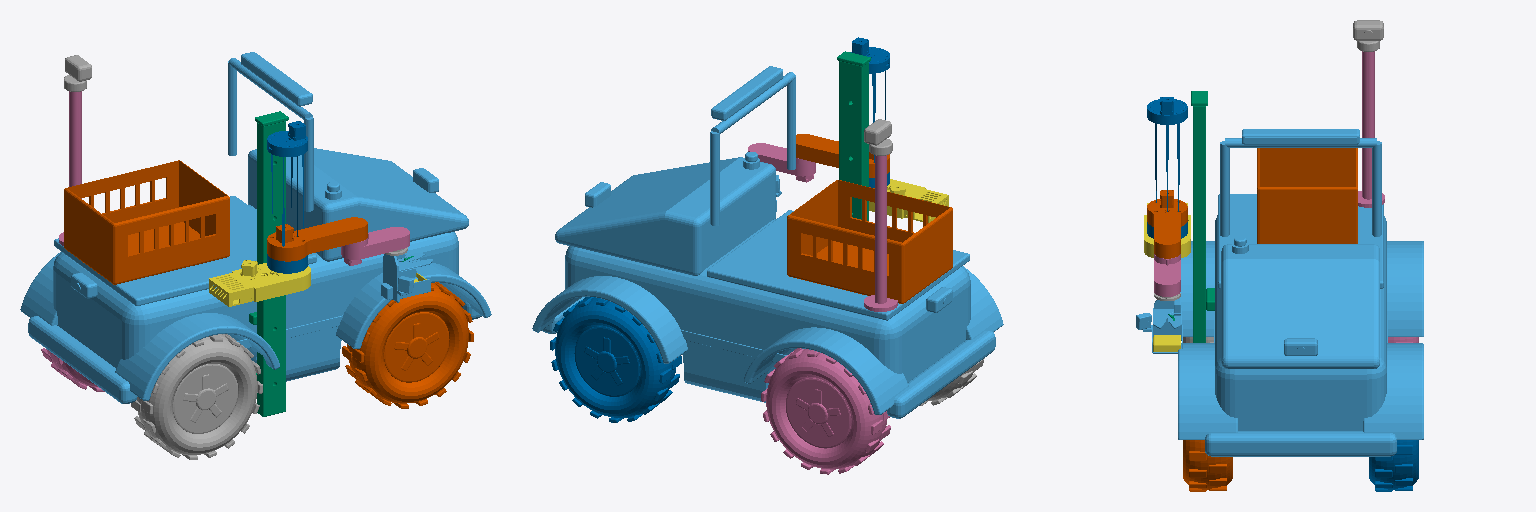
robot.urdf — agribot:
<?xml version="1.0"?>
<!--
  AgriBOT robot description. Generated by tools/description/write_urdf.py from
  measured and estimated data; edit the generator, not this file.
  Expanded defaults: tool = cutter, mast_pin = 2.
-->
<robot name="agribot">
  <link name="base_footprint"/>
  <link name="base_link">
    <inertial>
      <!-- estimate: ride-on chassis with batteries -->
      <origin xyz="0 0 0.205" rpy="0 0 0"/>
      <mass value="30"/>
      <inertia ixx="1.4065" ixy="0" ixz="0" iyy="4.00525" iyz="0" izz="3.89925"/>
    </inertial>
    <visual>
      <origin xyz="0 0 0" rpy="0 0 0"/>
      <geometry><mesh filename="package://agribot_description/meshes/rover/visual/rover_body.obj"/></geometry>
    </visual>
    <collision>
      <origin xyz="0 0 0.205" rpy="0 0 0"/>
      <geometry><box size="1.14 0.51 0.55"/></geometry>
    </collision>
  </link>
  <joint name="base_joint" type="fixed">
    <parent link="base_footprint"/>
    <child link="base_link"/>
    <origin xyz="0 0 0.19" rpy="0 0 0"/>
  </joint>
  <link name="front_left_knuckle">
    <inertial>
      <!-- estimate -->
      <origin xyz="0 0 0" rpy="0 0 0"/>
      <mass value="0.3"/>
      <inertia ixx="0.00013" ixy="0" ixz="0" iyy="0.00013" iyz="0" izz="8e-05"/>
    </inertial>
  </link>
  <link name="front_right_knuckle">
    <inertial>
      <!-- estimate -->
      <origin xyz="0 0 0" rpy="0 0 0"/>
      <mass value="0.3"/>
      <inertia ixx="0.00013" ixy="0" ixz="0" iyy="0.00013" iyz="0" izz="8e-05"/>
    </inertial>
  </link>
  <joint name="steer_joint" type="revolute">
    <!-- the steering motor; steer_right_joint follows it -->
    <parent link="base_link"/>
    <child link="front_left_knuckle"/>
    <origin xyz="0.36 0.275 0" rpy="0 0 0"/>
    <axis xyz="0 0 1"/>
    <limit lower="-0.436332" upper="0.436332" effort="20" velocity="1"/>
    <dynamics damping="0.5" friction="0.05"/>
  </joint>
  <joint name="steer_right_joint" type="revolute">
    <!-- linked to steer_joint (parallel steer) -->
    <parent link="base_link"/>
    <child link="front_right_knuckle"/>
    <origin xyz="0.36 -0.275 0" rpy="0 0 0"/>
    <axis xyz="0 0 1"/>
    <limit lower="-0.436332" upper="0.436332" effort="20" velocity="1"/>
    <dynamics damping="0.5" friction="0.05"/>
    <mimic joint="steer_joint" multiplier="1" offset="0"/>
  </joint>
  <link name="front_left_wheel">
    <inertial>
      <!-- estimate -->
      <origin xyz="0 0 0" rpy="0 0 0"/>
      <mass value="1.5"/>
      <inertia ixx="0.01635" ixy="0" ixz="0" iyy="0.027075" iyz="0" izz="0.01635"/>
    </inertial>
    <visual>
      <origin xyz="0 0 0" rpy="0 0 0"/>
      <geometry><mesh filename="package://agribot_description/meshes/rover/visual/wheel.obj"/></geometry>
    </visual>
    <collision>
      <origin xyz="0 0 0" rpy="1.5708 0 0"/>
      <geometry><cylinder radius="0.19" length="0.15"/></geometry>
    </collision>
  </link>
  <joint name="front_left_wheel_joint" type="continuous">
    <parent link="front_left_knuckle"/>
    <child link="front_left_wheel"/>
    <origin xyz="0 0 0" rpy="0 0 0"/>
    <axis xyz="0 1 0"/>
    <limit effort="40" velocity="6"/>
    <dynamics damping="0.2" friction="0.05"/>
  </joint>
  <link name="front_right_wheel">
    <inertial>
      <!-- estimate -->
      <origin xyz="0 0 0" rpy="0 0 0"/>
      <mass value="1.5"/>
      <inertia ixx="0.01635" ixy="0" ixz="0" iyy="0.027075" iyz="0" izz="0.01635"/>
    </inertial>
    <visual>
      <origin xyz="0 0 0" rpy="0 0 0"/>
      <geometry><mesh filename="package://agribot_description/meshes/rover/visual/wheel.obj"/></geometry>
    </visual>
    <collision>
      <origin xyz="0 0 0" rpy="1.5708 0 0"/>
      <geometry><cylinder radius="0.19" length="0.15"/></geometry>
    </collision>
  </link>
  <joint name="front_right_wheel_joint" type="continuous">
    <parent link="front_right_knuckle"/>
    <child link="front_right_wheel"/>
    <origin xyz="0 0 0" rpy="0 0 0"/>
    <axis xyz="0 1 0"/>
    <limit effort="40" velocity="6"/>
    <dynamics damping="0.2" friction="0.05"/>
  </joint>
  <link name="rear_left_wheel">
    <inertial>
      <!-- estimate -->
      <origin xyz="0 0 0" rpy="0 0 0"/>
      <mass value="1.5"/>
      <inertia ixx="0.01635" ixy="0" ixz="0" iyy="0.027075" iyz="0" izz="0.01635"/>
    </inertial>
    <visual>
      <origin xyz="0 0 0" rpy="0 0 0"/>
      <geometry><mesh filename="package://agribot_description/meshes/rover/visual/wheel.obj"/></geometry>
    </visual>
    <collision>
      <origin xyz="0 0 0" rpy="1.5708 0 0"/>
      <geometry><cylinder radius="0.19" length="0.15"/></geometry>
    </collision>
  </link>
  <joint name="rear_left_wheel_joint" type="continuous">
    <parent link="base_link"/>
    <child link="rear_left_wheel"/>
    <origin xyz="-0.36 0.275 0" rpy="0 0 0"/>
    <axis xyz="0 1 0"/>
    <limit effort="40" velocity="6"/>
    <dynamics damping="0.2" friction="0.05"/>
  </joint>
  <link name="rear_right_wheel">
    <inertial>
      <!-- estimate -->
      <origin xyz="0 0 0" rpy="0 0 0"/>
      <mass value="1.5"/>
      <inertia ixx="0.01635" ixy="0" ixz="0" iyy="0.027075" iyz="0" izz="0.01635"/>
    </inertial>
    <visual>
      <origin xyz="0 0 0" rpy="0 0 0"/>
      <geometry><mesh filename="package://agribot_description/meshes/rover/visual/wheel.obj"/></geometry>
    </visual>
    <collision>
      <origin xyz="0 0 0" rpy="1.5708 0 0"/>
      <geometry><cylinder radius="0.19" length="0.15"/></geometry>
    </collision>
  </link>
  <joint name="rear_right_wheel_joint" type="continuous">
    <parent link="base_link"/>
    <child link="rear_right_wheel"/>
    <origin xyz="-0.36 -0.275 0" rpy="0 0 0"/>
    <axis xyz="0 1 0"/>
    <limit effort="40" velocity="6"/>
    <dynamics damping="0.2" friction="0.05"/>
  </joint>
  <link name="front_camera_link"/>
  <link name="front_camera_link_optical_frame"/>
  <joint name="front_camera_link_optical_joint" type="fixed">
    <parent link="front_camera_link"/>
    <child link="front_camera_link_optical_frame"/>
    <origin xyz="0 0 0" rpy="-1.5708 0 -1.5708"/>
  </joint>
  <joint name="front_camera_joint" type="fixed">
    <parent link="base_link"/>
    <child link="front_camera_link"/>
    <origin xyz="0.602 0 0.36" rpy="0 0 0"/>
  </joint>
  <link name="rear_camera_link"/>
  <link name="rear_camera_link_optical_frame"/>
  <joint name="rear_camera_link_optical_joint" type="fixed">
    <parent link="rear_camera_link"/>
    <child link="rear_camera_link_optical_frame"/>
    <origin xyz="0 0 0" rpy="-1.5708 0 -1.5708"/>
  </joint>
  <joint name="rear_camera_joint" type="fixed">
    <parent link="base_link"/>
    <child link="rear_camera_link"/>
    <origin xyz="-0.607 0 0.29" rpy="0 0 3.14159"/>
  </joint>
  <link name="imu_link"/>
  <joint name="imu_joint" type="fixed">
    <parent link="base_link"/>
    <child link="imu_link"/>
    <origin xyz="0 0 0.26" rpy="0 0 0"/>
  </joint>
  <link name="harvest_crate">
    <inertial>
      <!-- estimate, empty -->
      <origin xyz="0 0 0.1" rpy="0 0 0"/>
      <mass value="0.6"/>
      <inertia ixx="0.0065" ixy="0" ixz="0" iyy="0.01" iyz="0" izz="0.0125"/>
    </inertial>
    <visual>
      <origin xyz="0 0 0" rpy="0 0 0"/>
      <geometry><mesh filename="package://agribot_description/meshes/rover/visual/harvest_crate.obj"/></geometry>
    </visual>
    <collision name="floor">
      <origin xyz="0 0 0.004" rpy="0 0 0"/>
      <geometry><box size="0.4 0.3 0.008"/></geometry>
    </collision>
    <collision name="wall_left">
      <origin xyz="0 0.146 0.1" rpy="0 0 0"/>
      <geometry><box size="0.4 0.008 0.2"/></geometry>
    </collision>
    <collision name="wall_right">
      <origin xyz="0 -0.146 0.1" rpy="0 0 0"/>
      <geometry><box size="0.4 0.008 0.2"/></geometry>
    </collision>
    <collision name="wall_front">
      <origin xyz="0.196 0 0.1" rpy="0 0 0"/>
      <geometry><box size="0.008 0.3 0.2"/></geometry>
    </collision>
    <collision name="wall_rear">
      <origin xyz="-0.196 0 0.1" rpy="0 0 0"/>
      <geometry><box size="0.008 0.3 0.2"/></geometry>
    </collision>
  </link>
  <joint name="harvest_crate_joint" type="fixed">
    <parent link="base_link"/>
    <child link="harvest_crate"/>
    <origin xyz="-0.36 0.02 0.335" rpy="0 0 0"/>
  </joint>
  <link name="scout_mast">
    <inertial>
      <!-- estimate -->
      <origin xyz="0 0 0.25" rpy="0 0 0"/>
      <mass value="0.4"/>
      <inertia ixx="0.00838667" ixy="0" ixz="0" iyy="0.00838667" iyz="0" izz="0.000106667"/>
    </inertial>
    <visual>
      <origin xyz="0 0 0" rpy="0 0 0"/>
      <geometry><mesh filename="package://agribot_description/meshes/rover/visual/scout_mast.obj"/></geometry>
    </visual>
  </link>
  <joint name="scout_mast_joint" type="fixed">
    <parent link="base_link"/>
    <child link="scout_mast"/>
    <origin xyz="-0.5 0.2 0.335" rpy="0 0 0"/>
  </joint>
  <link name="scout_pan_link">
    <inertial>
      <!-- estimate -->
      <origin xyz="0 0 0.05" rpy="0 0 0"/>
      <mass value="0.15"/>
      <inertia ixx="0.00018125" ixy="0" ixz="0" iyy="0.00014125" iyz="0" izz="0.0001625"/>
    </inertial>
    <visual>
      <origin xyz="0 0 0" rpy="0 0 0"/>
      <geometry><mesh filename="package://agribot_description/meshes/rover/visual/scout_head.obj"/></geometry>
    </visual>
  </link>
  <joint name="scout_pan_joint" type="revolute">
    <!-- pan mechanism for the rotating scouting camera -->
    <parent link="scout_mast"/>
    <child link="scout_pan_link"/>
    <origin xyz="0 0 0.5" rpy="0 0 0"/>
    <axis xyz="0 0 1"/>
    <limit lower="-3.14159" upper="3.14159" effort="1" velocity="1.5"/>
    <dynamics damping="0.05" friction="0.01"/>
  </joint>
  <link name="scout_camera_link"/>
  <link name="scout_camera_link_optical_frame"/>
  <joint name="scout_camera_link_optical_joint" type="fixed">
    <parent link="scout_camera_link"/>
    <child link="scout_camera_link_optical_frame"/>
    <origin xyz="0 0 0" rpy="-1.5708 0 -1.5708"/>
  </joint>
  <joint name="scout_camera_joint" type="fixed">
    <parent link="scout_pan_link"/>
    <child link="scout_camera_link"/>
    <origin xyz="0.04 0 0.06" rpy="0 0 0"/>
  </joint>
  <link name="scara_mast">
    <inertial>
      <!-- estimate -->
      <origin xyz="0 0 0.475" rpy="0 0 0"/>
      <mass value="2.5"/>
      <inertia ixx="0.188354" ixy="0" ixz="0" iyy="0.189354" iyz="0" izz="0.00166667"/>
    </inertial>
    <visual>
      <origin xyz="0 0 0" rpy="0 0 0"/>
      <geometry><mesh filename="package://agribot_description/meshes/rover/visual/scara_mast.obj"/></geometry>
    </visual>
    <collision>
      <origin xyz="0 0 0.475" rpy="0 0 0"/>
      <geometry><box size="0.08 0.04 0.95"/></geometry>
    </collision>
  </link>
  <joint name="scara_mast_joint" type="fixed">
    <!-- side mast; the SCARA base pins on at one of five heights -->
    <parent link="base_link"/>
    <child link="scara_mast"/>
    <origin xyz="-0.12 -0.3 -0.11" rpy="0 0 0"/>
  </joint>
  <link name="scara_base_link">
    <inertial>
      <!-- estimate: mesh volumes x effective density: printed 560 kg/m3, metal 7850 kg/m3, motor 3800 kg/m3, belt 1200 kg/m3, switch 1500 kg/m3. Estimates; weigh the real parts. -->
      <origin xyz="-0.0712791 0.00956844 0.0371431" rpy="0 0 0"/>
      <mass value="0.833682"/>
      <inertia ixx="0.00124008" ixy="0.000315526" ixz="0.000159535" iyy="0.00418148" iyz="-0.000150768" izz="0.00491594"/>
    </inertial>
    <visual>
      <origin xyz="0 0 0" rpy="0 0 0"/>
      <geometry><mesh filename="package://agribot_description/meshes/scara/visual/base_link.obj"/></geometry>
    </visual>
    <collision>
      <geometry><mesh filename="package://agribot_description/meshes/scara/collision/base_link.stl"/></geometry>
    </collision>
  </link>
  <link name="scara_column_link">
    <inertial>
      <!-- estimate: mesh volumes x effective density: printed 560 kg/m3, metal 7850 kg/m3, motor 3800 kg/m3, belt 1200 kg/m3, switch 1500 kg/m3. Estimates; weigh the real parts. -->
      <origin xyz="0.00742286 3.44212e-06 0.228887" rpy="0 0 0"/>
      <mass value="1.80729"/>
      <inertia ixx="0.0462066" ixy="-1.87405e-09" ixz="-0.00165238" iyy="0.0465499" iyz="-1.66436e-07" izz="0.00324059"/>
    </inertial>
    <visual>
      <origin xyz="0 0 0" rpy="0 0 0"/>
      <geometry><mesh filename="package://agribot_description/meshes/scara/visual/column_link.obj"/></geometry>
    </visual>
    <collision>
      <geometry><mesh filename="package://agribot_description/meshes/scara/collision/column_link.stl"/></geometry>
    </collision>
  </link>
  <link name="scara_carriage_link">
    <inertial>
      <!-- estimate: mesh volumes x effective density: printed 560 kg/m3, metal 7850 kg/m3, motor 3800 kg/m3, belt 1200 kg/m3, switch 1500 kg/m3. Estimates; weigh the real parts. -->
      <origin xyz="0.0811465 -8.9567e-07 0.0295613" rpy="0 0 0"/>
      <mass value="0.946238"/>
      <inertia ixx="0.0011079" ixy="7.57917e-07" ixz="0.00164601" iyy="0.0110148" iyz="-3.88306e-07" izz="0.0109244"/>
    </inertial>
    <visual>
      <origin xyz="0 0 0" rpy="0 0 0"/>
      <geometry><mesh filename="package://agribot_description/meshes/scara/visual/carriage_link.obj"/></geometry>
    </visual>
    <collision>
      <geometry><mesh filename="package://agribot_description/meshes/scara/collision/carriage_link.stl"/></geometry>
    </collision>
  </link>
  <link name="scara_arm2_link">
    <inertial>
      <!-- estimate: mesh volumes x effective density: printed 560 kg/m3, metal 7850 kg/m3, motor 3800 kg/m3, belt 1200 kg/m3, switch 1500 kg/m3. Estimates; weigh the real parts. -->
      <origin xyz="0.0691927 8.7085e-07 -0.0313833" rpy="0 0 0"/>
      <mass value="0.569879"/>
      <inertia ixx="0.000428514" ixy="2.76917e-07" ixz="-4.59967e-05" iyy="0.00300115" iyz="-2.11427e-07" izz="0.00292892"/>
    </inertial>
    <visual>
      <origin xyz="0 0 0" rpy="0 0 0"/>
      <geometry><mesh filename="package://agribot_description/meshes/scara/visual/arm2_link.obj"/></geometry>
    </visual>
    <collision>
      <geometry><mesh filename="package://agribot_description/meshes/scara/collision/arm2_link.stl"/></geometry>
    </collision>
  </link>
  <link name="scara_wrist_link">
    <inertial>
      <!-- estimate: mesh volumes x effective density: printed 560 kg/m3, metal 7850 kg/m3, motor 3800 kg/m3, belt 1200 kg/m3, switch 1500 kg/m3. Estimates; weigh the real parts. -->
      <origin xyz="0.000443116 -0.000165271 -7.39752e-05" rpy="0 0 0"/>
      <mass value="0.0372179"/>
      <inertia ixx="1.9538e-05" ixy="-2.60341e-08" ixz="1.66016e-07" iyy="1.94947e-05" iyz="-7.77842e-08" izz="2.00665e-05"/>
    </inertial>
    <visual>
      <origin xyz="0 0 0" rpy="0 0 0"/>
      <geometry><mesh filename="package://agribot_description/meshes/scara/visual/wrist_link.obj"/></geometry>
    </visual>
    <collision>
      <geometry><mesh filename="package://agribot_description/meshes/scara/collision/wrist_link.stl"/></geometry>
    </collision>
  </link>
  <link name="scara_tool_flange"/>
  <joint name="scara_j1" type="revolute">
    <!-- limits: assumed; set from the J1 home switch and cabling; effort/velocity: estimate -->
    <parent link="scara_base_link"/>
    <child link="scara_column_link"/>
    <origin xyz="0 0 0.035" rpy="0 0 0"/>
    <axis xyz="0 0 1"/>
    <limit lower="-2.96706" upper="2.96706" effort="2" velocity="1"/>
    <dynamics damping="0.5" friction="0.05"/>
  </joint>
  <joint name="scara_z" type="prismatic">
    <!-- limits: part clearances in the STEP: platform on base cover, J2 motor at the Z top limit switch; effort/velocity: estimate -->
    <parent link="scara_column_link"/>
    <child link="scara_carriage_link"/>
    <origin xyz="0 0 0.0625" rpy="0 0 0"/>
    <axis xyz="0 0 1"/>
    <limit lower="0" upper="0.249" effort="100" velocity="0.1"/>
    <dynamics damping="2" friction="0.2"/>
  </joint>
  <joint name="scara_j2" type="revolute">
    <!-- limits: assumed; check Arm 2 against the column; effort/velocity: estimate -->
    <parent link="scara_carriage_link"/>
    <child link="scara_arm2_link"/>
    <origin xyz="0.227977 0 -0.019" rpy="0 0 0"/>
    <axis xyz="0 0 1"/>
    <limit lower="-2.61799" upper="2.61799" effort="3" velocity="1.2"/>
    <dynamics damping="0.3" friction="0.05"/>
  </joint>
  <joint name="scara_j3" type="revolute">
    <!-- limits: assumed; keeps the tool cables from winding up; effort/velocity: estimate -->
    <parent link="scara_arm2_link"/>
    <child link="scara_wrist_link"/>
    <origin xyz="0.136488 0 -0.039" rpy="0 0 0"/>
    <axis xyz="0 0 1"/>
    <limit lower="-2.61799" upper="2.61799" effort="0.8" velocity="2"/>
    <dynamics damping="0.05" friction="0.01"/>
  </joint>
  <joint name="scara_tool_flange_joint" type="fixed">
    <!-- J3 coupler underside; tools bolt on here -->
    <parent link="scara_wrist_link"/>
    <child link="scara_tool_flange"/>
    <origin xyz="0 0 -0.018" rpy="0 0 0"/>
  </joint>
  <joint name="scara_mount" type="fixed">
    <parent link="scara_mast"/>
    <child link="scara_base_link"/>
    <origin xyz="0 -0.095 0.46" rpy="0 0 0"/>
  </joint>
  <link name="scara_cutter_body">
    <inertial>
      <!-- estimate: two MG996R, PETG body, camera (docs/scara-redesign.md) -->
      <origin xyz="0.03 0 -0.07" rpy="0 0 0"/>
      <mass value="0.28"/>
      <inertia ixx="0.000714" ixy="0" ixz="0" iyy="0.000919333" iyz="0" izz="0.000583333"/>
    </inertial>
    <visual>
      <origin xyz="0 0 0" rpy="0 0 0"/>
      <geometry><mesh filename="package://agribot_description/meshes/cutter/visual/cutter_body.obj"/></geometry>
    </visual>
    <collision name="top_plate">
      <origin xyz="0.051 0 -0.05" rpy="0 0 0"/>
      <geometry><box size="0.134 0.084 0.004"/></geometry>
    </collision>
    <collision name="spine">
      <origin xyz="-0.012 0 -0.0765" rpy="0 0 0"/>
      <geometry><box size="0.008 0.09 0.147"/></geometry>
    </collision>
    <collision name="wall_right">
      <origin xyz="0.046 0.0435 -0.119" rpy="0 0 0"/>
      <geometry><box size="0.108 0.003 0.042"/></geometry>
    </collision>
    <collision name="wall_left">
      <origin xyz="0.046 -0.0435 -0.119" rpy="0 0 0"/>
      <geometry><box size="0.108 0.003 0.042"/></geometry>
    </collision>
    <collision name="servo1">
      <origin xyz="0.0263 0.0298 -0.0255" rpy="0 0 0"/>
      <geometry><box size="0.0407 0.0197 0.037"/></geometry>
    </collision>
    <collision name="camera">
      <origin xyz="-0.002 -0.07 -0.084" rpy="0 0 0"/>
      <geometry><box size="0.03 0.046 0.042"/></geometry>
    </collision>
  </link>
  <link name="scara_cutter_blade">
    <inertial>
      <!-- estimate -->
      <origin xyz="0.01 0 0.001" rpy="0 0 0"/>
      <mass value="0.008"/>
      <inertia ixx="7.73333e-08" ixy="0" ixz="0" iyy="6.10667e-07" iyz="0" izz="6.66667e-07"/>
    </inertial>
    <visual>
      <origin xyz="0 0 0" rpy="0 0 0"/>
      <geometry><mesh filename="package://agribot_description/meshes/cutter/visual/cutter_blade.obj"/></geometry>
    </visual>
  </link>
  <link name="scara_cutter_door">
    <inertial>
      <!-- estimate -->
      <origin xyz="-0.052 0 0.004" rpy="0 0 0"/>
      <mass value="0.03"/>
      <inertia ixx="1.7525e-05" ixy="0" ixz="0" iyy="2.73425e-05" iyz="0" izz="4.42625e-05"/>
    </inertial>
    <visual>
      <origin xyz="0 0 0" rpy="0 0 0"/>
      <geometry><mesh filename="package://agribot_description/meshes/cutter/visual/cutter_door.obj"/></geometry>
    </visual>
    <collision name="floor">
      <origin xyz="-0.052 0 0.0065" rpy="0 0 0"/>
      <geometry><box size="0.104 0.083 0.011"/></geometry>
    </collision>
    <collision name="lip">
      <origin xyz="0.002 0 0.015" rpy="0 0 0"/>
      <geometry><box size="0.004 0.083 0.024"/></geometry>
    </collision>
  </link>
  <link name="scara_cut_point"/>
  <link name="scara_tool0"/>
  <link name="scara_arm_camera_link"/>
  <link name="scara_arm_camera_link_optical_frame"/>
  <joint name="scara_arm_camera_link_optical_joint" type="fixed">
    <parent link="scara_arm_camera_link"/>
    <child link="scara_arm_camera_link_optical_frame"/>
    <origin xyz="0 0 0" rpy="-1.5708 0 -1.5708"/>
  </joint>
  <joint name="scara_cutter_mount" type="fixed">
    <parent link="scara_tool_flange"/>
    <child link="scara_cutter_body"/>
    <origin xyz="0 0 0" rpy="0 0 0"/>
  </joint>
  <joint name="scara_cutter_blade_joint" type="revolute">
    <!-- 0 = open, lower limit = fully closed across the throat -->
    <parent link="scara_cutter_body"/>
    <child link="scara_cutter_blade"/>
    <origin xyz="0.048 0.014 -0.047" rpy="0 0 0.261799"/>
    <axis xyz="0 0 1"/>
    <limit lower="-1.22173" upper="0" effort="0.9" velocity="3"/>
    <dynamics damping="0.01" friction="0.002"/>
  </joint>
  <joint name="scara_cutter_door_joint" type="revolute">
    <!-- 0 = closed; positive swings the floor down to drop the fruit -->
    <parent link="scara_cutter_body"/>
    <child link="scara_cutter_door"/>
    <origin xyz="0.098 0 -0.14" rpy="0 0 0"/>
    <axis xyz="0 -1 0"/>
    <limit lower="0" upper="1.309" effort="0.9" velocity="3"/>
    <dynamics damping="0.01" friction="0.002"/>
  </joint>
  <joint name="scara_cut_point_joint" type="fixed">
    <!-- centre of the 6 mm throat: the pedicel is cut here -->
    <parent link="scara_cutter_body"/>
    <child link="scara_cut_point"/>
    <origin xyz="0.0655 0 -0.05" rpy="0 0 0"/>
  </joint>
  <joint name="scara_tool0_joint" type="fixed">
    <parent link="scara_cutter_body"/>
    <child link="scara_tool0"/>
    <origin xyz="0.0655 0 -0.05" rpy="0 0 0"/>
  </joint>
  <joint name="scara_arm_camera_joint" type="fixed">
    <!-- RGB-D camera front face, pitched down -->
    <parent link="scara_cutter_body"/>
    <child link="scara_arm_camera_link"/>
    <origin xyz="0.00820322 -0.0645749 -0.085011" rpy="0 0.0872665 0.488692"/>
  </joint>
</robot>

--- Render facts (derived) ---
The picture shows the robot from 3 angles, left to right: view 1: azimuth 30°, elevation 25°; view 2: azimuth 150°, elevation 25°; view 3: azimuth 270°, elevation 25°; orthographic projection.
Robot: agribot — 32 links, 31 joints (8 revolute, 4 continuous, 1 prismatic, 18 fixed); root link base_footprint; default pose: every joint at zero.
Visible links, largest first — view 1: base_link, harvest_crate, rear_right_wheel, front_right_wheel, scara_mast, scara_base_link, scara_carriage_link, scara_column_link, scara_cutter_body, scara_arm2_link, scout_mast, scout_pan_link (+1 smaller); view 2: base_link, harvest_crate, front_left_wheel, rear_left_wheel, scara_mast, scout_mast, scara_carriage_link, scara_arm2_link, scara_base_link, scara_column_link, scout_pan_link, rear_right_wheel; view 3: base_link, harvest_crate, scara_mast, front_right_wheel, front_left_wheel, scara_carriage_link, scout_mast, scara_column_link, scara_cutter_body, scara_arm2_link, scout_pan_link, scara_base_link.
Boxes of the visible links, x1,y1,x2,y2 form: base_link: [20, 52, 491, 403]; harvest_crate: [64, 160, 229, 284]; rear_right_wheel: [131, 334, 262, 459]; front_right_wheel: [342, 282, 473, 408]; scara_mast: [249, 111, 288, 416]; scara_base_link: [209, 260, 310, 306]; scara_carriage_link: [267, 217, 367, 261]; scara_column_link: [267, 121, 307, 273]; scara_cutter_body: [381, 253, 432, 302]; scara_arm2_link: [341, 227, 409, 265]; scout_mast: [59, 91, 81, 245]; scout_pan_link: [64, 55, 91, 91]; base_link: [532, 66, 1003, 418]; harvest_crate: [787, 180, 952, 303]; front_left_wheel: [550, 297, 681, 422]; rear_left_wheel: [761, 348, 890, 474]; scara_mast: [837, 51, 870, 220]; scout_mast: [864, 155, 897, 311]; scara_carriage_link: [796, 134, 889, 177]; scara_arm2_link: [748, 143, 815, 182]; scara_base_link: [869, 179, 948, 222]; scara_column_link: [851, 37, 889, 187]; scout_pan_link: [864, 119, 892, 155]; rear_right_wheel: [920, 358, 984, 405]; base_link: [1178, 129, 1423, 456]; harvest_crate: [1257, 148, 1357, 243]; scara_mast: [1191, 91, 1214, 342]; front_right_wheel: [1183, 440, 1232, 491]; front_left_wheel: [1369, 440, 1418, 491]; scara_carriage_link: [1147, 190, 1187, 258]; scout_mast: [1358, 51, 1384, 207]; scara_column_link: [1147, 97, 1187, 238]; scara_cutter_body: [1136, 299, 1182, 353]; scara_arm2_link: [1154, 254, 1180, 296]; scout_pan_link: [1353, 20, 1383, 51]; scara_base_link: [1144, 203, 1190, 257].
Size in the robot's own frame: 1.24 by 0.8538 by 1.11 metres.
Meshes: 14 distinct files referenced, 17 mesh visuals loaded (14 OBJ).
